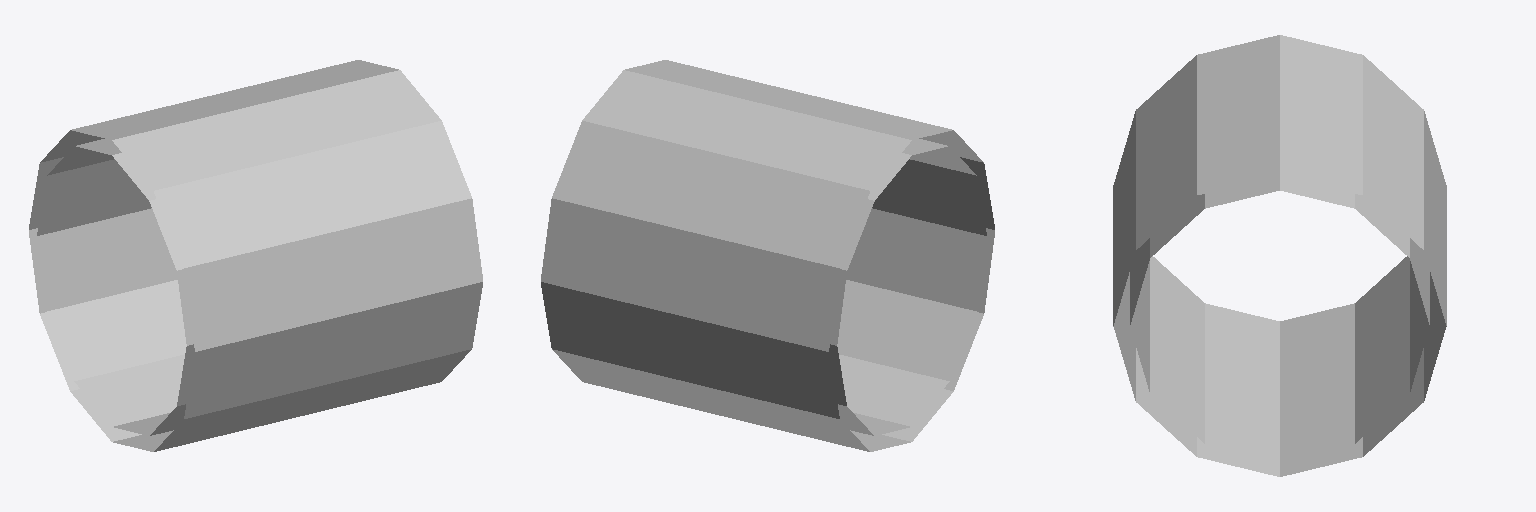
File: pipe.obj
The picture shows the model from 3 angles: view 1: azimuth 30°, elevation 25°; view 2: azimuth 150°, elevation 25°; view 3: azimuth 270°, elevation 25°; orthographic projection.
Visible parts, largest first — view 1: mesh[number redacted], mesh[number redacted].001; view 2: mesh[number redacted], mesh[number redacted].001; view 3: mesh[number redacted], mesh[number redacted].001.
Boxes of the visible parts, box(x1,y1,x2,y2) form: mesh[number redacted]: box(29, 60, 482, 451); mesh[number redacted].001: box(37, 139, 194, 435); mesh[number redacted]: box(541, 60, 994, 451); mesh[number redacted].001: box(829, 139, 986, 435); mesh[number redacted]: box(1113, 35, 1446, 476); mesh[number redacted].001: box(1130, 176, 1429, 461).
Size of the model in its own units: 2 by 2 by 2.